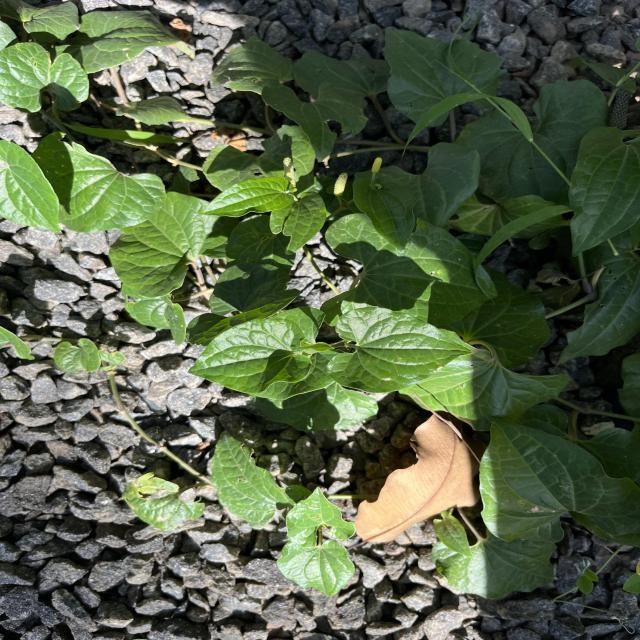Piper longum: (477, 413, 640, 548), (324, 305, 474, 395), (186, 316, 314, 396)
